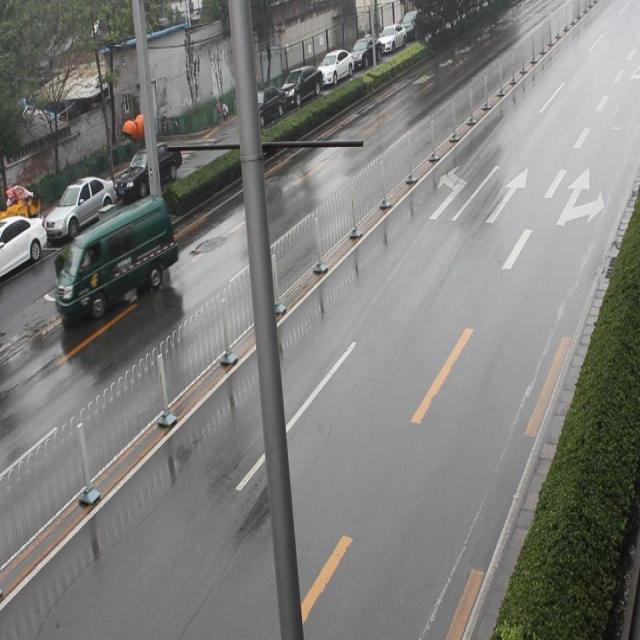truck: (51, 206, 175, 329)
